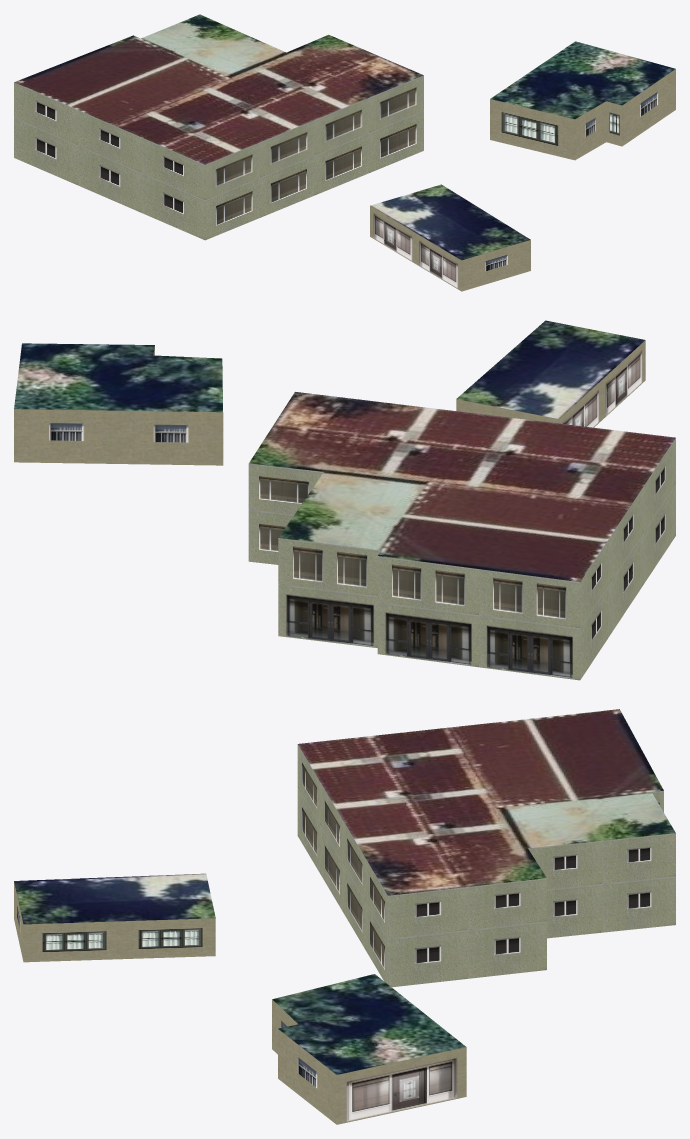
File: tile_LOD8_r2_c7.glb
3 renders of one model, top to bottom at view 1: azimuth 30°, elevation 25°; view 2: azimuth 150°, elevation 25°; view 3: azimuth 270°, elevation 25°, orthographic. The views are drawn at different scales.
Bounding box in the file's own units: 47.04 × 6.22 × 40.63.
Materials: 10 (10 with a texture image).
